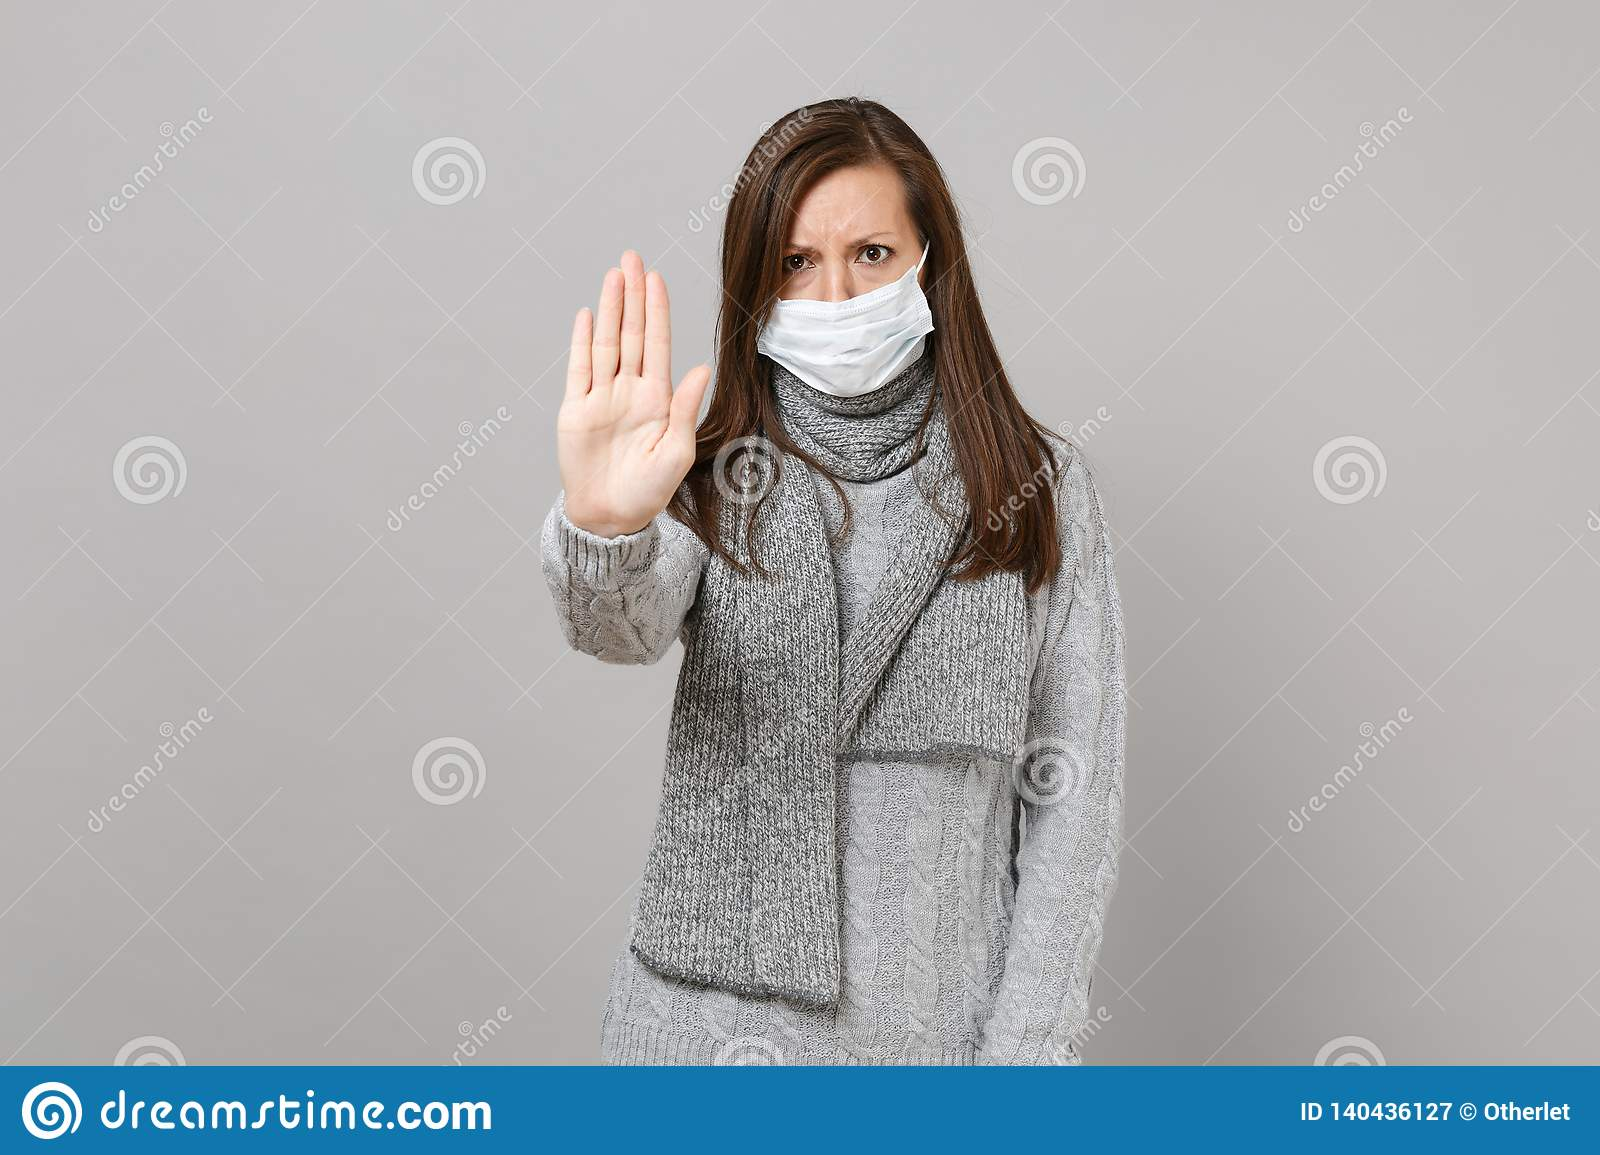mask: (753, 283, 934, 397)
